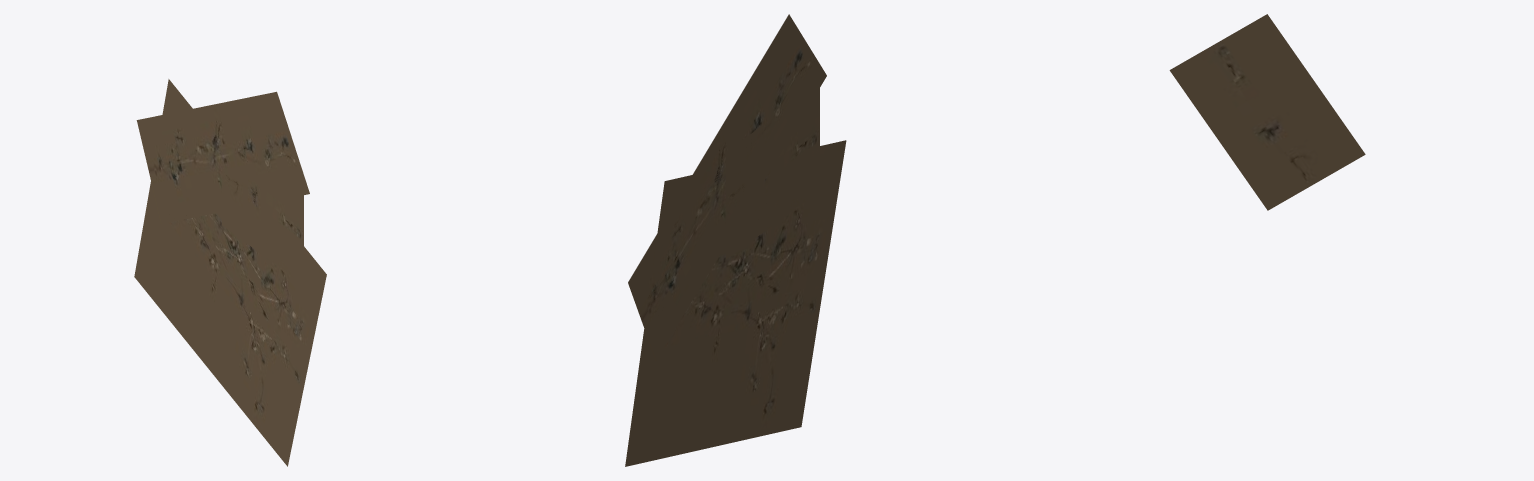
Rendered from brush_desertshrubbrowntall.glb.
3 renders of one model, left to right at view 1: azimuth 30°, elevation 25°; view 2: azimuth 150°, elevation 25°; view 3: azimuth 270°, elevation 25°, orthographic. The views are drawn at different scales.
Size of the model in its own units: 43.76 by 44.62 by 45.66.
1 material, 1 textured.
